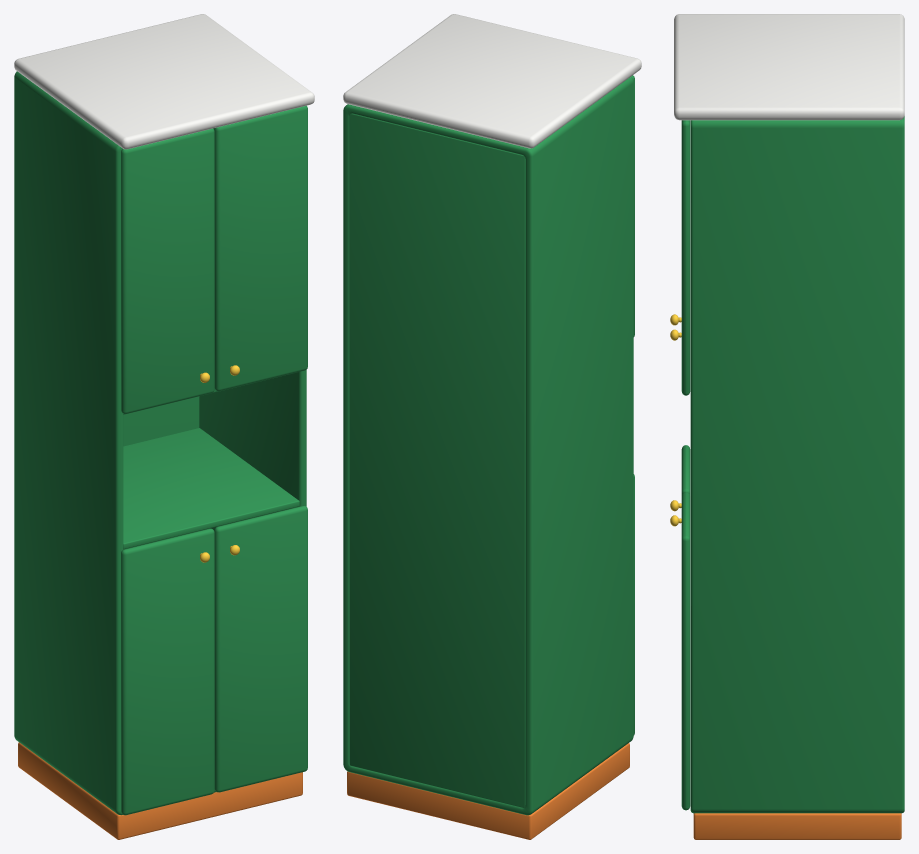
Rendered from paneleiro_verde.glb.
3 renders of one model, left to right at view 1: azimuth 30°, elevation 25°; view 2: azimuth 150°, elevation 25°; view 3: azimuth 270°, elevation 25°, orthographic. The views are drawn at different scales.
Visible parts, largest first — view 1: paneleiro_verde, porta_3, porta_4, porta_1, porta_2; view 2: paneleiro_verde; view 3: paneleiro_verde, porta_4, porta_2, porta_3.
Part boxes in pixels (x1,y1,x2,y2): paneleiro_verde: (14,14,314,839); porta_3: (121,528,214,815); porta_4: (214,505,307,792); porta_1: (121,128,214,414); porta_2: (214,105,307,391); paneleiro_verde: (343,14,641,839); paneleiro_verde: (674,14,904,839); porta_4: (670,492,690,810); porta_2: (670,120,690,395); porta_3: (670,445,690,511).
Size of the model in its own units: 0.598 by 2.1 by 0.609.
1 material, 1 textured.
